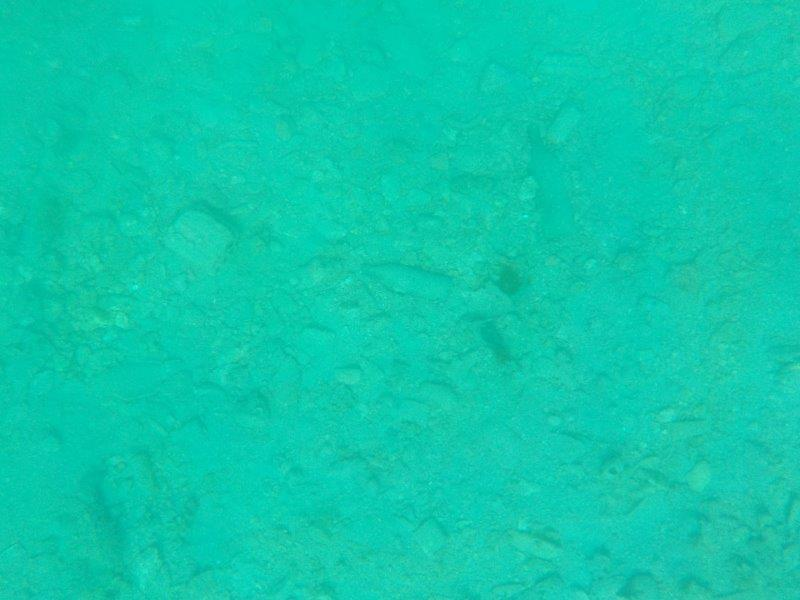bottle: (516, 117, 584, 244), (354, 254, 457, 311)
